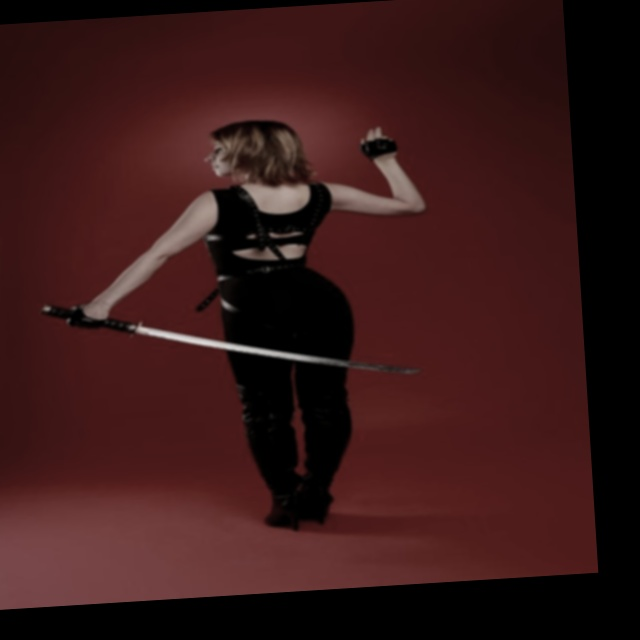Sharp-Object: (38, 278, 432, 402)
